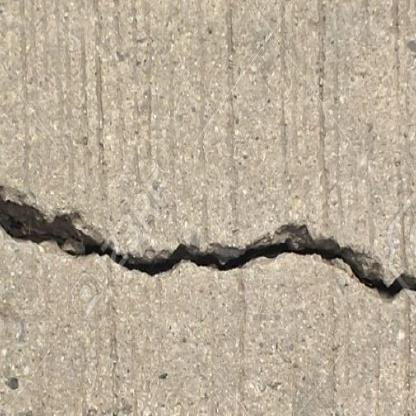Cracks: (0, 195, 416, 308)
